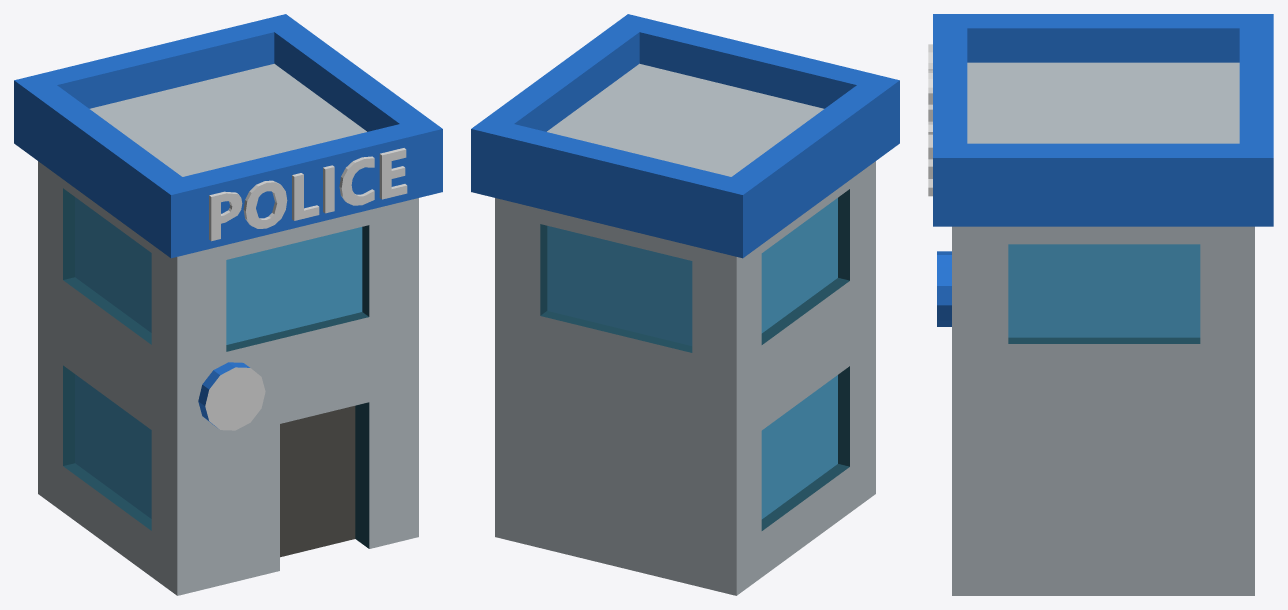
File: Police_Station.fbx
3 views of the same model, side by side, from view 1: azimuth 30°, elevation 25°; view 2: azimuth 150°, elevation 25°; view 3: azimuth 270°, elevation 25° (orthographic). The views are drawn at different scales.
Parts seen in each view (by area): view 1: Police_Station; view 2: Police_Station; view 3: Police_Station.
Part boxes in pixels (box(x1,y1,x2,y2)): Police_Station: box(14, 14, 442, 595); Police_Station: box(471, 14, 899, 595); Police_Station: box(928, 14, 1273, 595).
Bounding box in the file's own units: 450 × 650 × 457.
